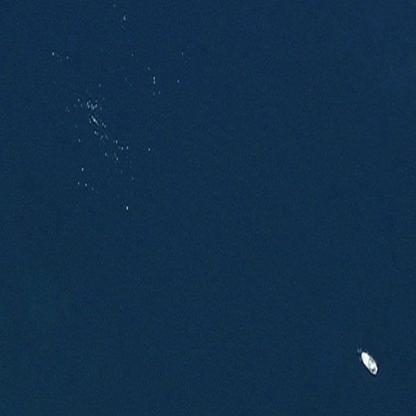ship: (352, 346, 382, 378)
